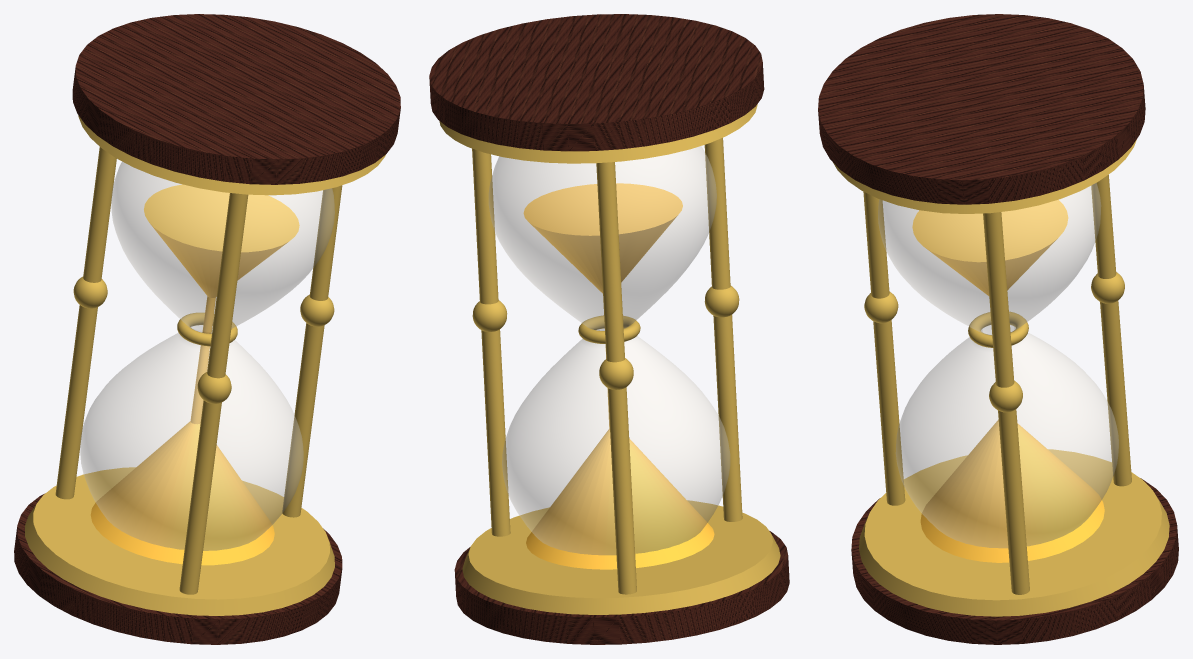
Rendered from jadwal.glb.
3 views of the same model, side by side, from view 1: azimuth 30°, elevation 25°; view 2: azimuth 150°, elevation 25°; view 3: azimuth 270°, elevation 25° (orthographic). The views are drawn at different scales.
Size of the model in its own units: 1.06 by 1.62 by 1.02.
Materials: 4 (1 with a texture image).
